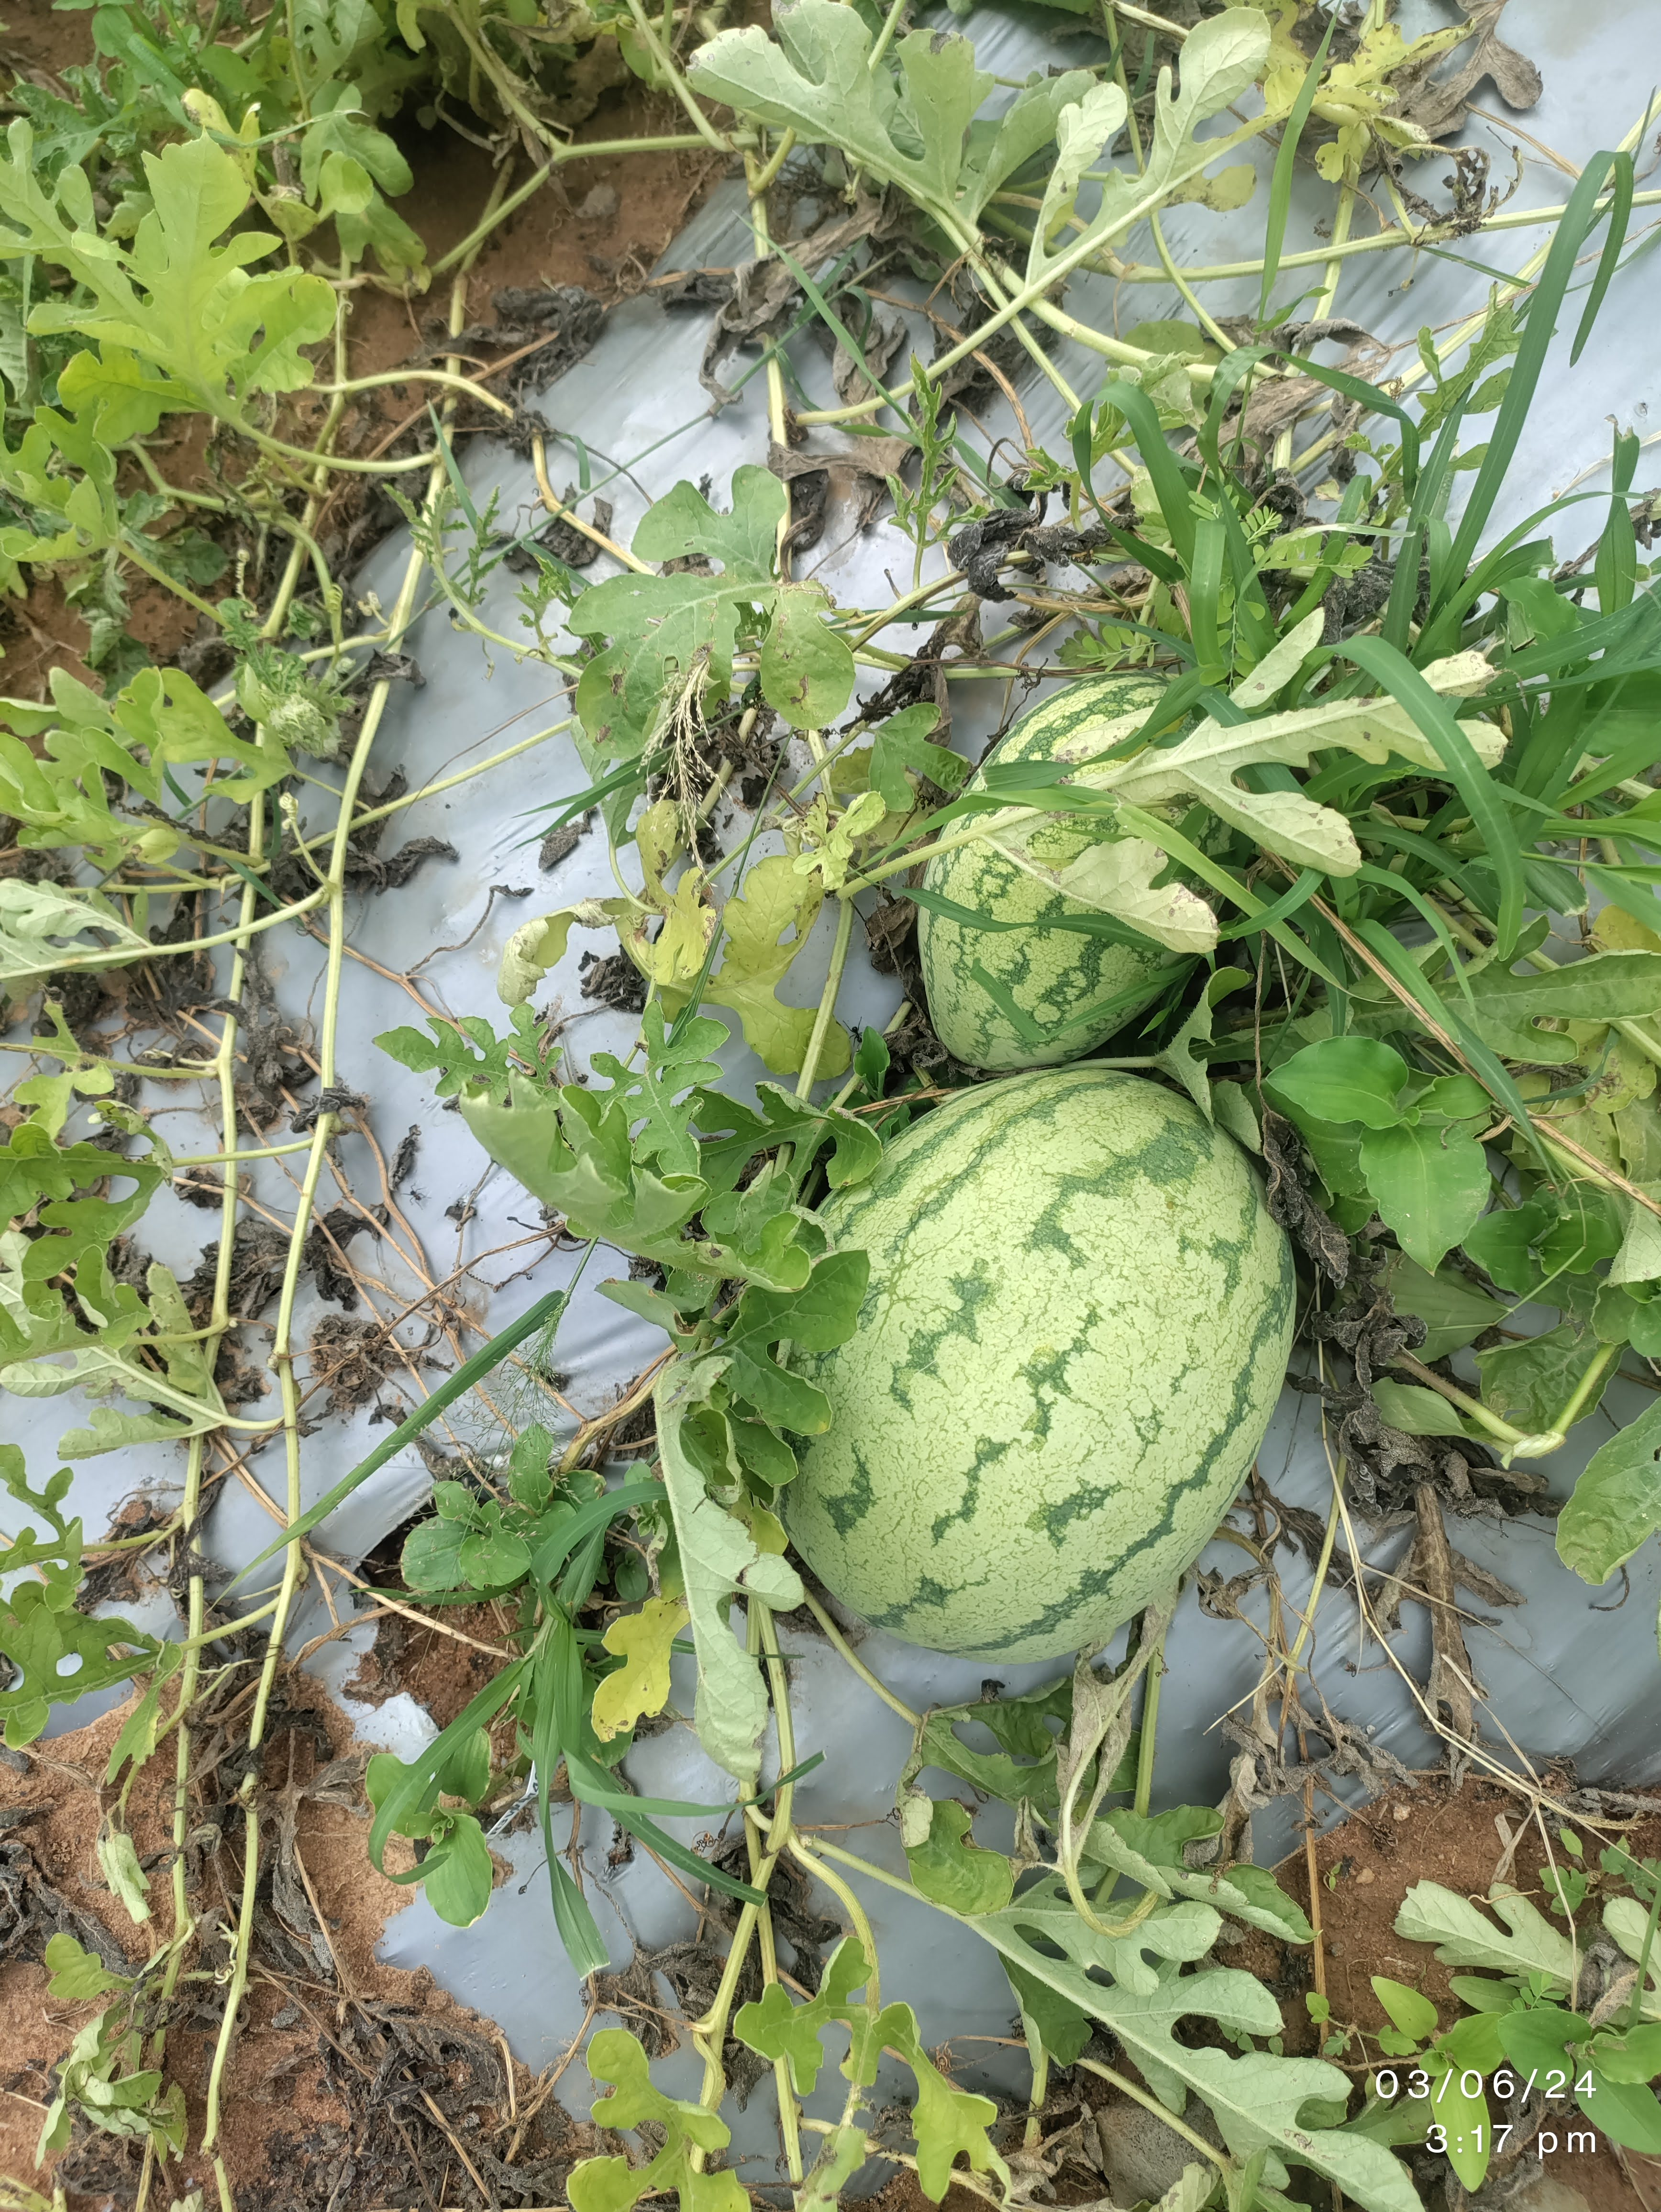good-to-harvest: (714, 1047, 1336, 1704)
not-good-to-harvest: (918, 612, 1256, 1099)
